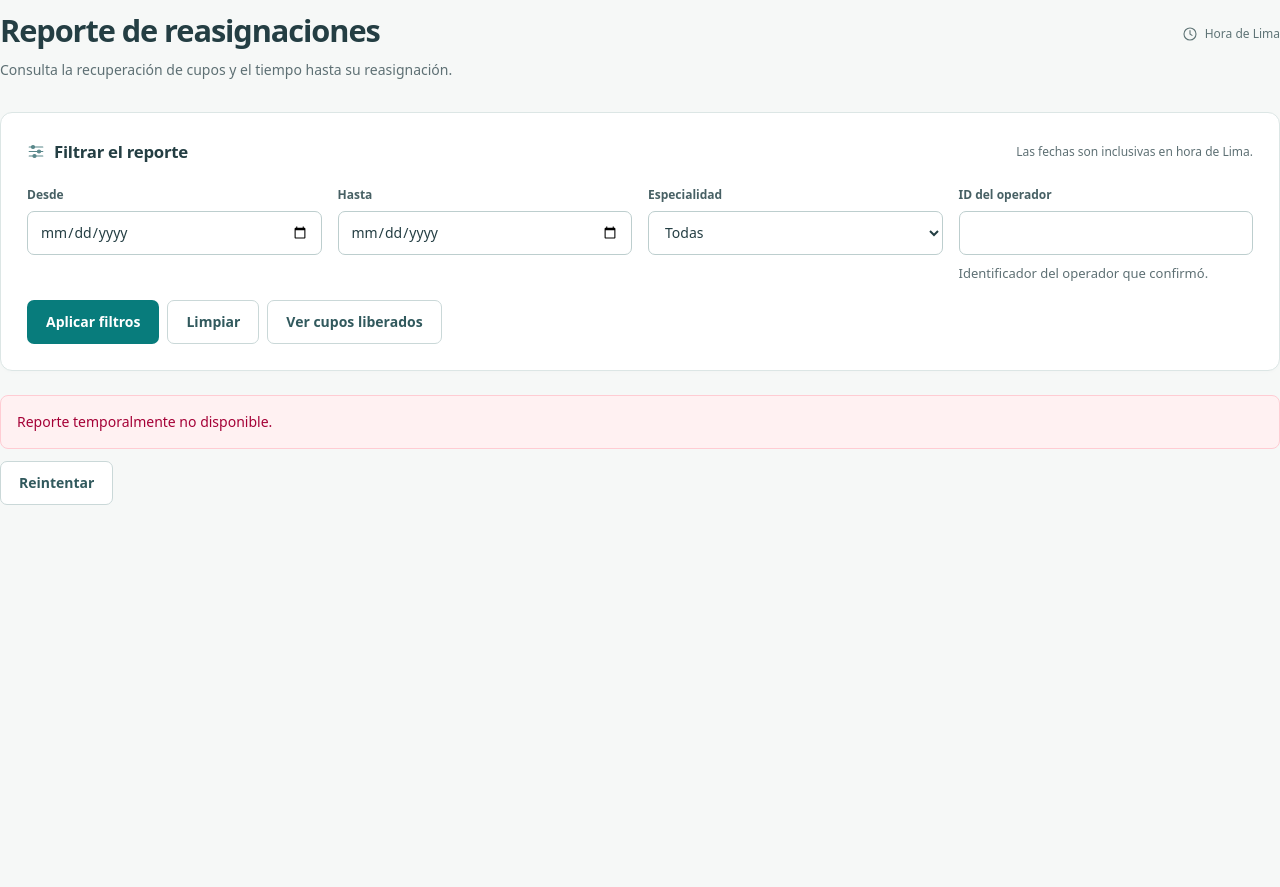
Test: REP-03: consulta, filtros y presentación (RF-094, RNF-016) › muestra error de contrato y reintenta
The image size is (1280, 887).
expect the text "Reporte temporalmente no disponible." is shown: met, box [0,395,1279,449]
Click the button "Reintentar": (57, 483) [0,461,113,505]
(page scrolled)
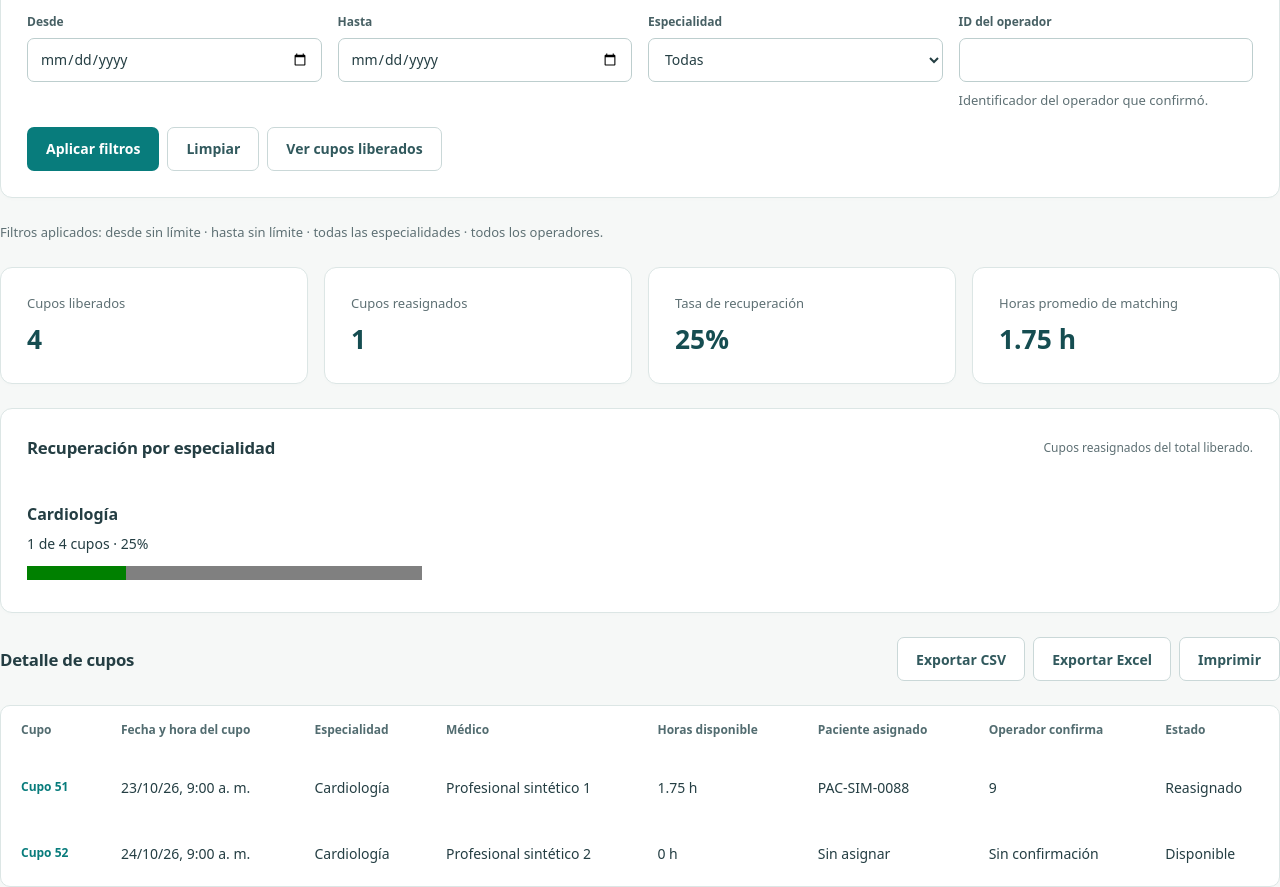
expect the text "Profesional sintético 1" is shown: met, box [426,754,638,820]
